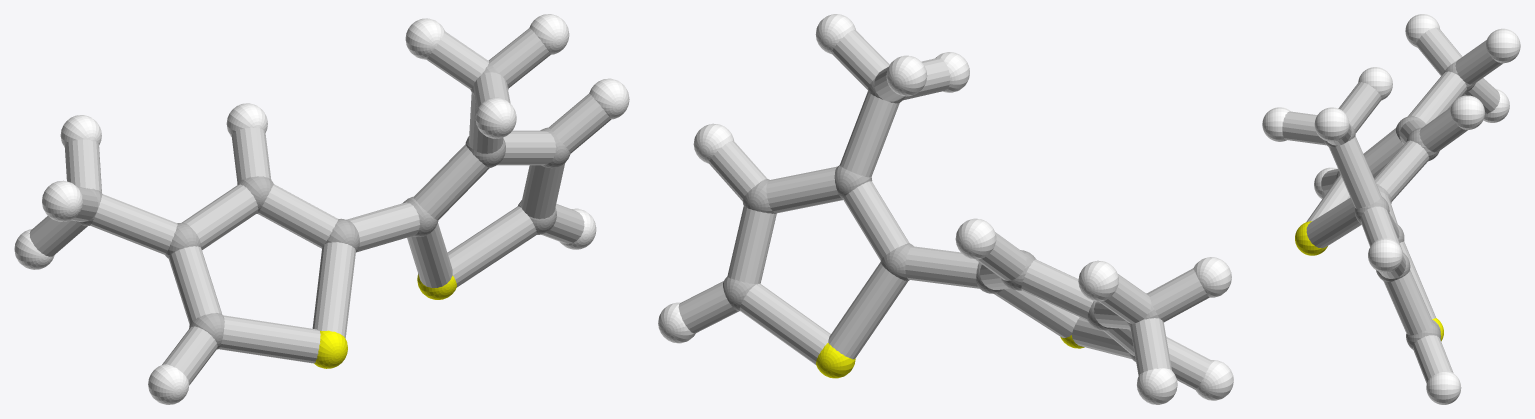
The model's file is Methylthiophene_Phi_15_Theta_250_Methylthiophene.glb.
3 views of the same model, side by side, from view 1: azimuth 30°, elevation 25°; view 2: azimuth 150°, elevation 25°; view 3: azimuth 270°, elevation 25° (orthographic). The views are drawn at different scales.
Parts seen in each view (by area): view 1: grp7965, grp3621, grp1, grp7241; view 2: grp7965, grp3621, grp1, grp7241; view 3: grp7965, grp3621, grp1, grp7241.
Boxes of the visible parts, x1,y1,x2,y2 form: grp7965: (29,28,611,384); grp3621: (14,14,629,404); grp1: (76,62,570,349); grp7241: (314,274,456,368); grp7965: (678,29,1211,389); grp3621: (658,14,1233,404); grp1: (723,78,1159,362); grp7241: (816,335,1084,378); grp7965: (1282,27,1503,383); grp3621: (1262,14,1520,404); grp1: (1324,61,1475,349); grp7241: (1295,221,1443,341).
Bounding box in the file's own units: 9.42 × 4.97 × 4.44.
